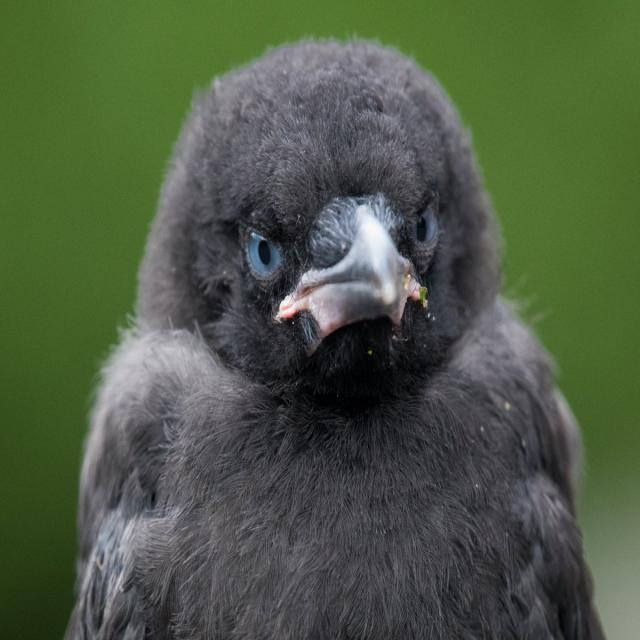crow: (178, 82, 478, 458)
